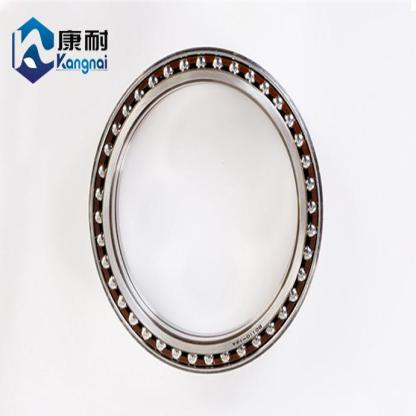FOD: (84, 46, 328, 380)
